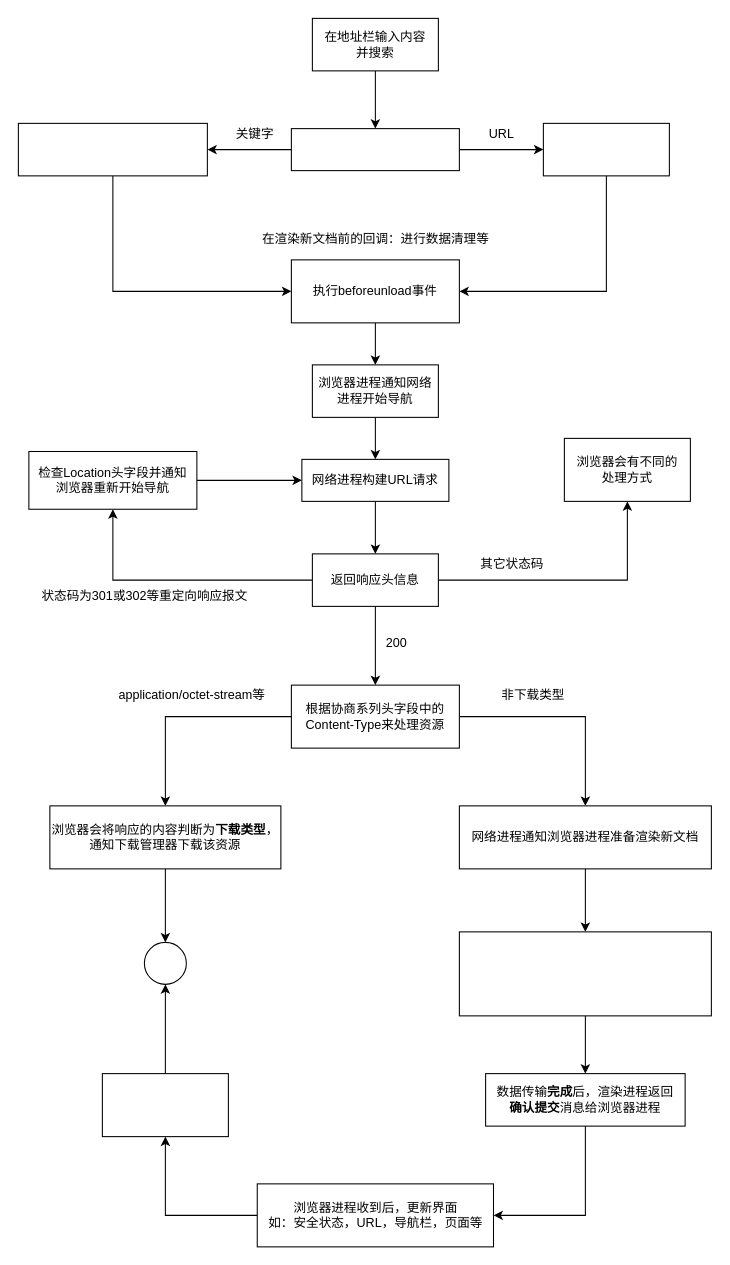
Image size: 730x1265. Some labels were removed from this diagram. Each missing label, with the centre of its shape:
end: [164,962]
内容是关键字 or URL: [374,149]
浏览器会使用默认搜索引擎来合成带关键字的完整URL: [112,149]
浏览器进程通知 渲染进程与网络进程建立管道通信 并 接受响应数据: [584,973]
渲染进程进行页面解析和子资源加载: [164,1105]
补充端口，协议等: [605,149]
